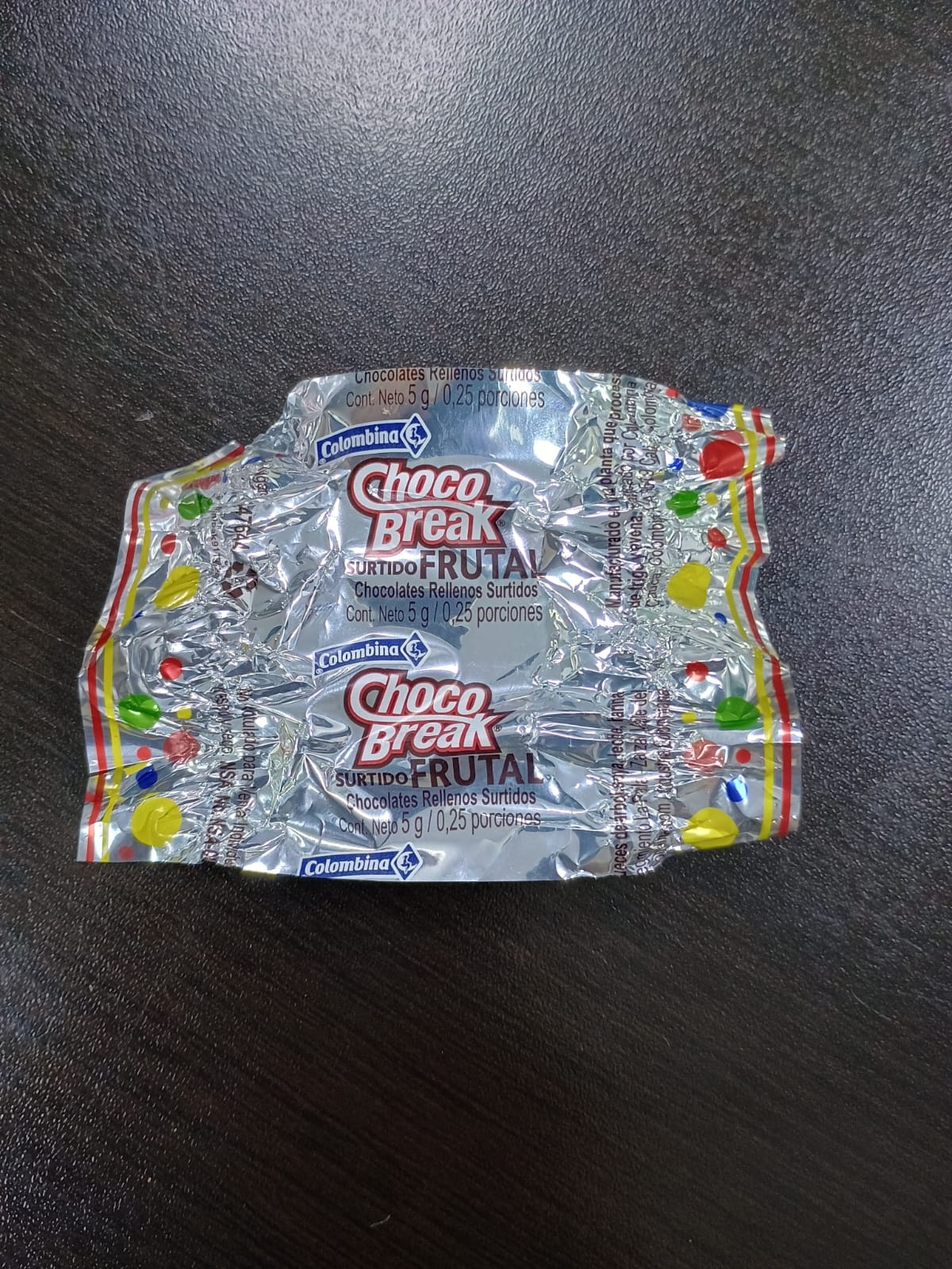Ordinario: (73, 366, 806, 887)
